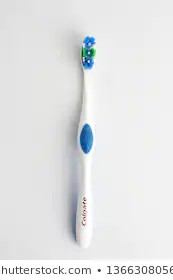toothbrush: (68, 32, 105, 252)
